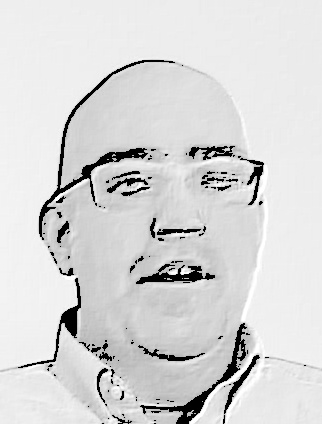nose_M_C: (147, 182, 208, 259)
